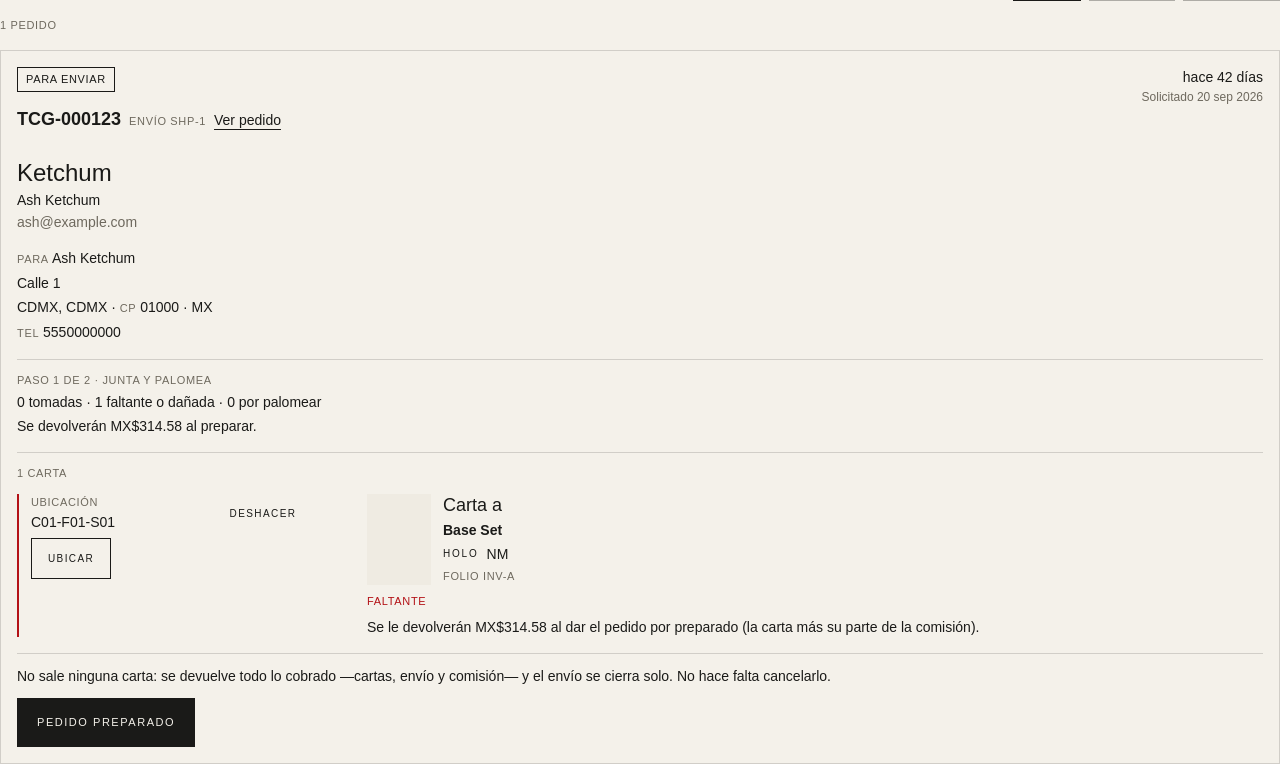
Test case: PS-UI-4 · `409 REFUND_PREVIEW_STALE` reabre con la cifra nueva y ⛔ no reintenta solo › {refundCents: 31000} ⇒ el diálogo sigue abierto con «310.00» y hubo UN solo POST
(page scrolled)
Click the button "Pedido preparado" at (106, 722), box [17,698,195,746]
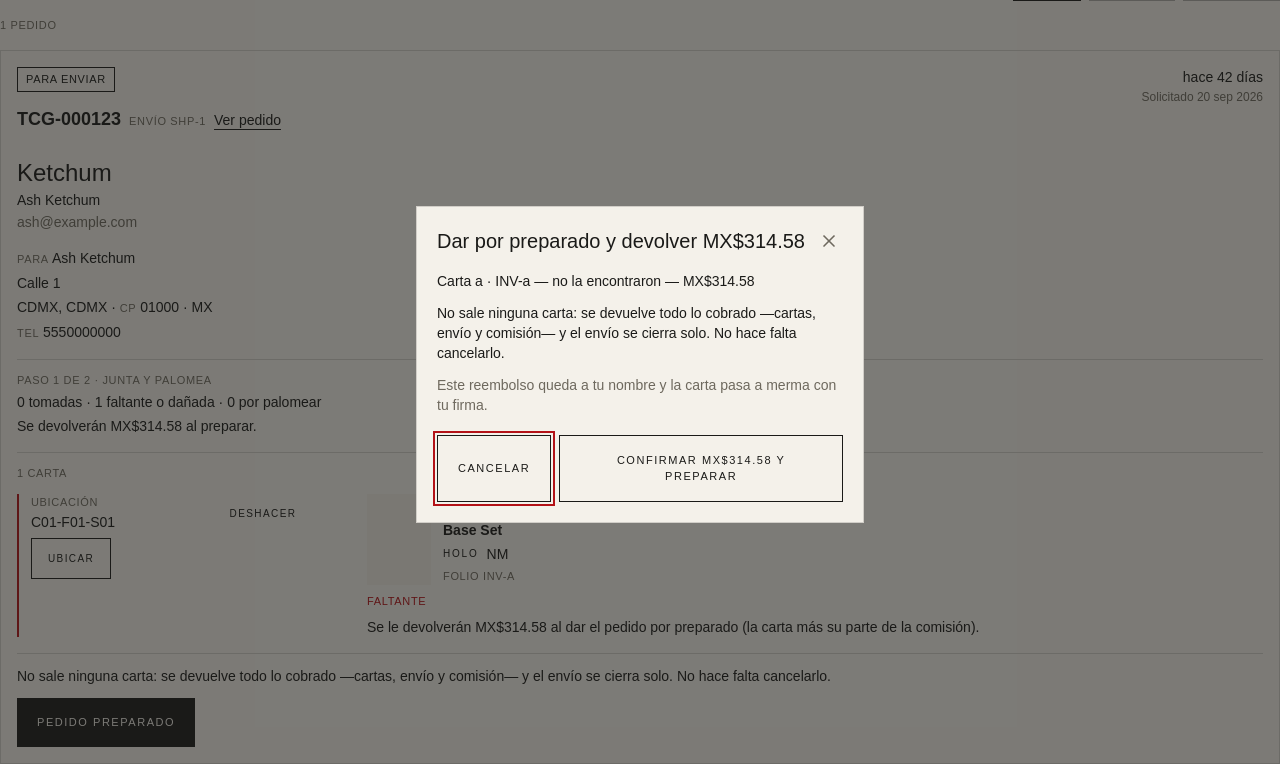
Click the button with test id "ship-prepare-confirm" at (701, 468), box [559,434,843,502]
(page scrolled)
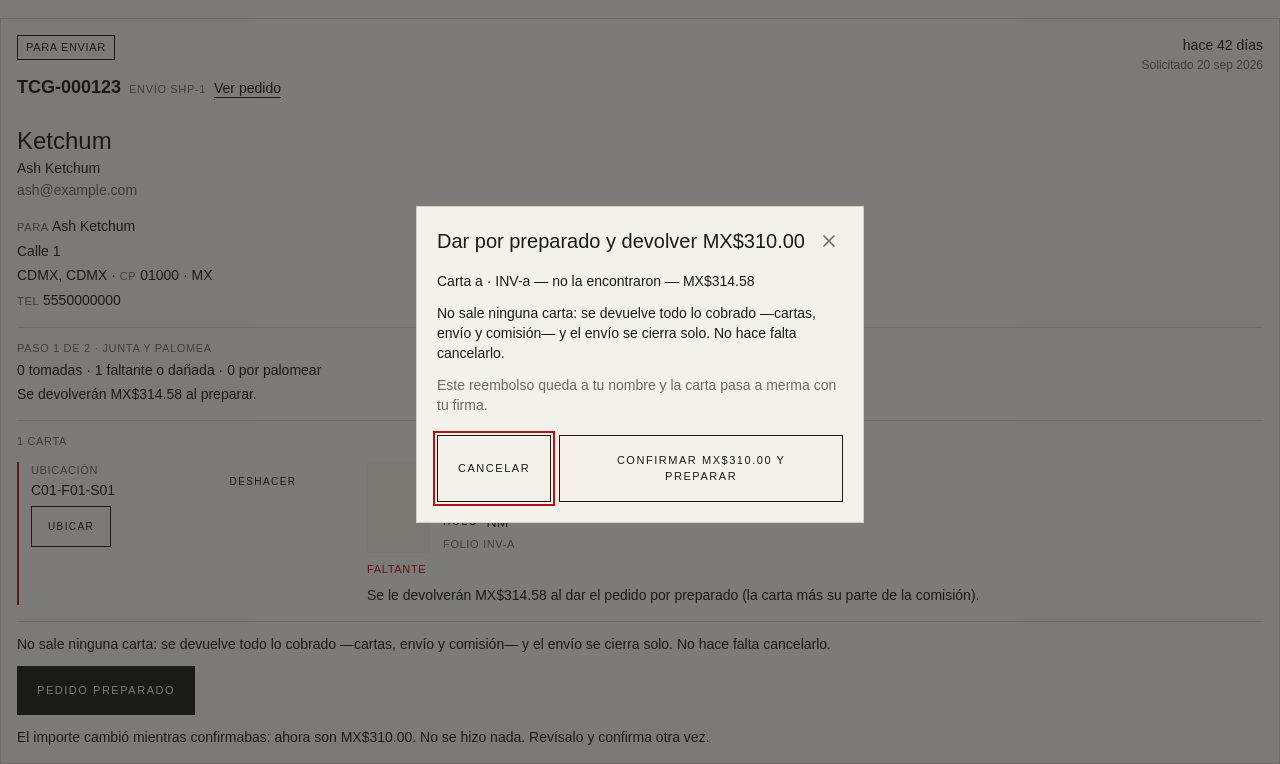
Check: the button with test id "ship-prepare-confirm" shows "310.00", box [559,434,843,502]
